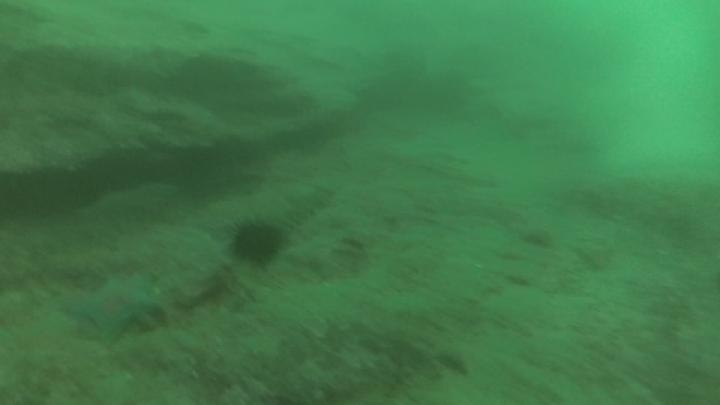echinus: (228, 216, 287, 268)
holothurian: (275, 181, 337, 235)
starfish: (64, 269, 162, 346)
